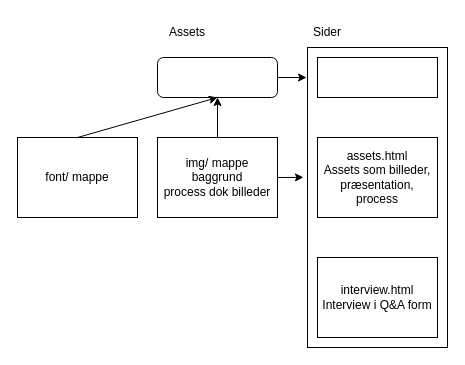
Image size: 465x365. Some labels were removed from this diagram. The shapes that lost their labels are listed below. From the top down, each one's box as (x1, y1, x2, y2) in pixels, then its label:
(156, 56, 278, 98): style.css
(316, 56, 438, 98): Home - index.html
